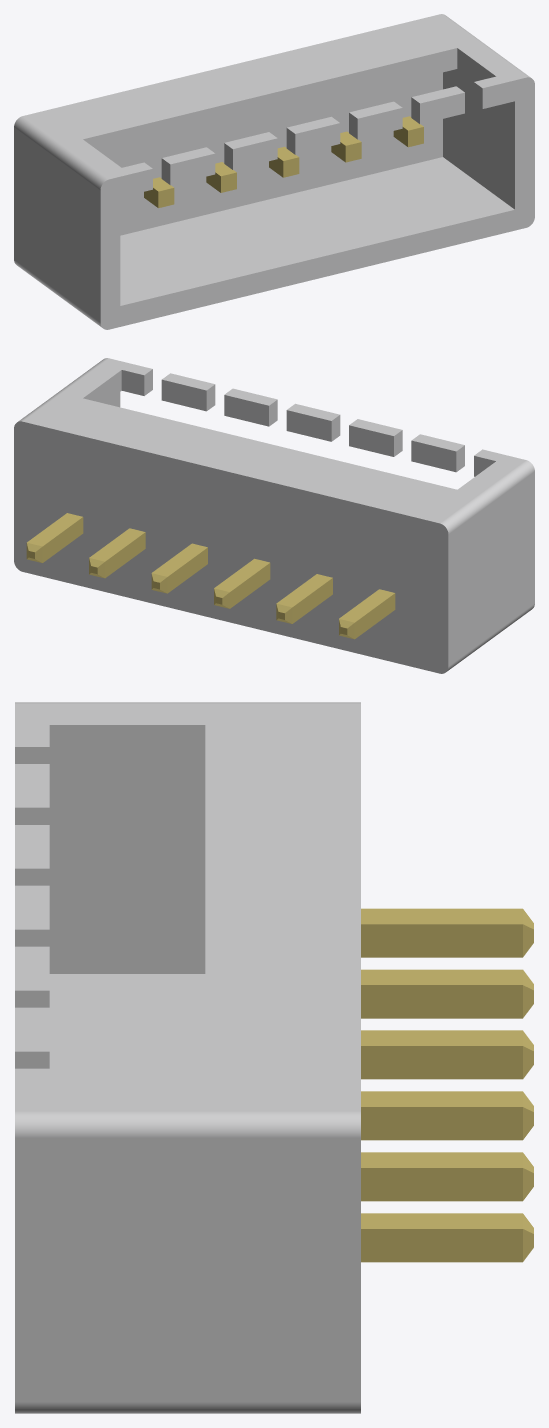
The model's file is jst_xh_6pin.glb.
3 renders of one model, top to bottom at view 1: azimuth 30°, elevation 25°; view 2: azimuth 150°, elevation 25°; view 3: azimuth 270°, elevation 25°, orthographic. The views are drawn at different scales.
Parts seen in each view (by area): view 1: world; view 2: world; view 3: world.
Boxes of the visible parts, x1=… form: world: x1=14, y1=14, x2=534, y2=329; world: x1=14, y1=358, x2=534, y2=673; world: x1=15, y1=702, x2=533, y2=1413.
Bounding box in the file's own units: 17.4 × 5.75 × 9.
